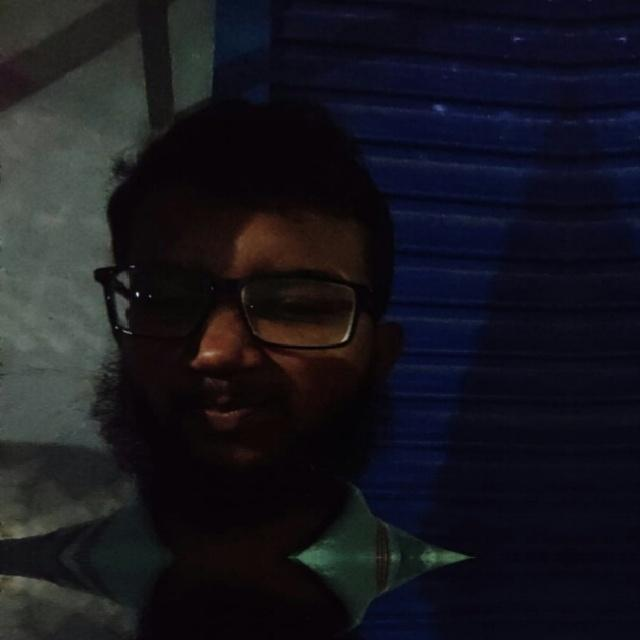Disgust: (49, 72, 448, 569)
